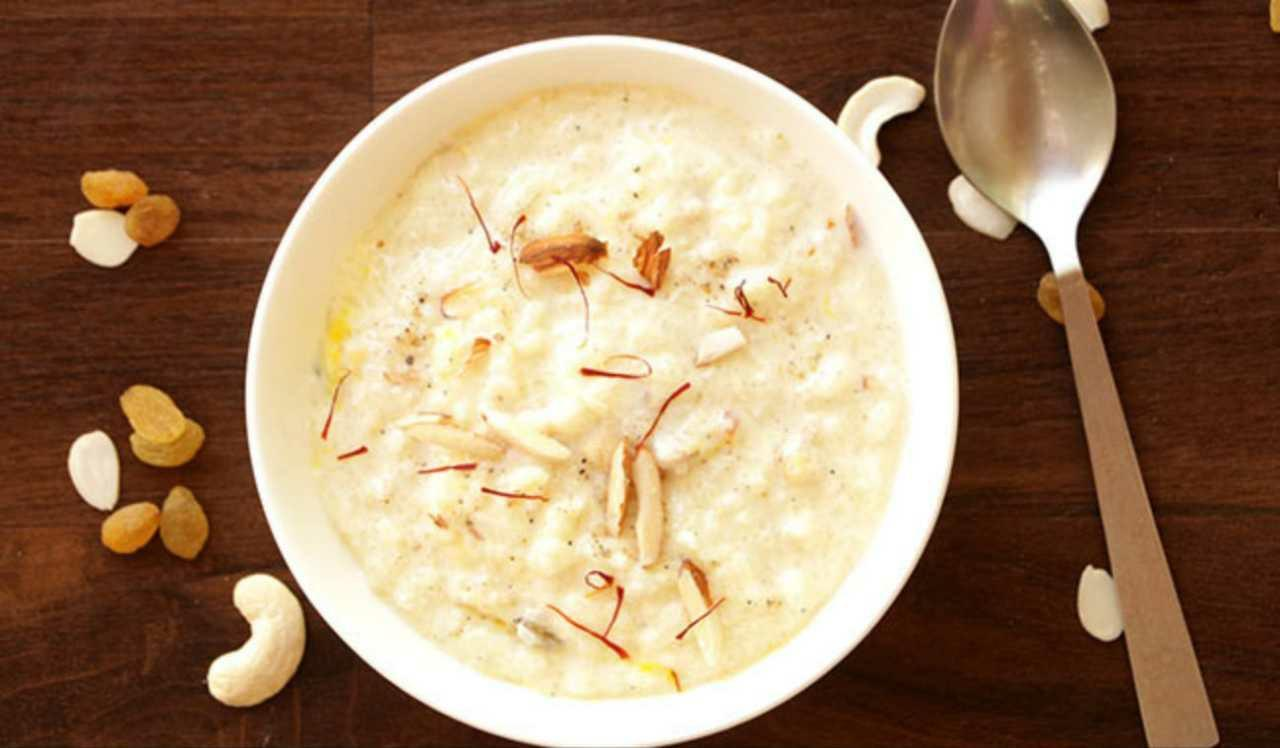Kheer: (303, 79, 914, 696)
